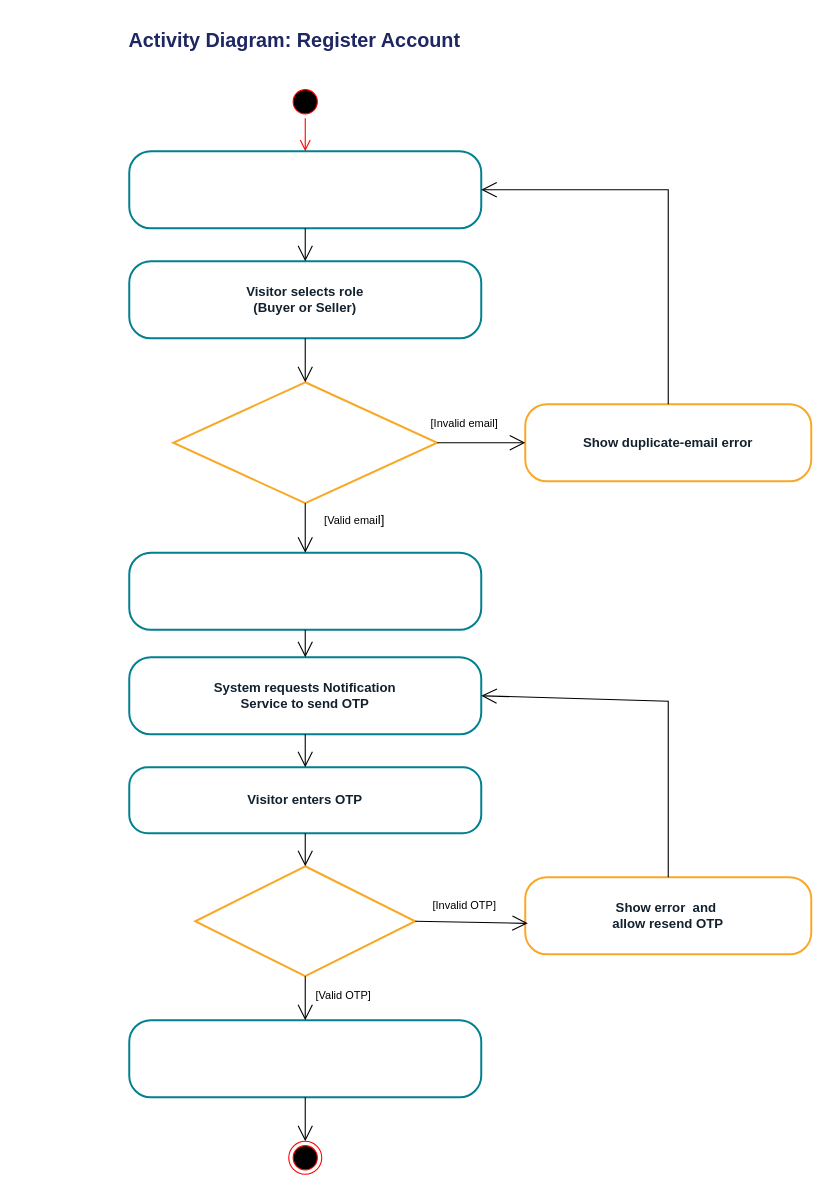
Image size: 831x1194. Some labels were removed from this diagram. The centre of each missing label's shape, as x and y in pixels:
"Activate account and display role-based dashboard" belongs at pixel 305 1058.
"System creates account (status: pending)" belongs at pixel 305 590.
"Visitor enters name, email, mobile number, password" belongs at pixel 305 189.
